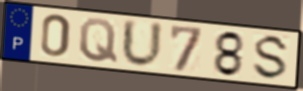0: (39, 13, 73, 60)
7: (168, 23, 205, 74)
8: (212, 28, 246, 79)
Q: (78, 17, 120, 65)
S: (250, 33, 292, 82)
U: (120, 17, 165, 70)
